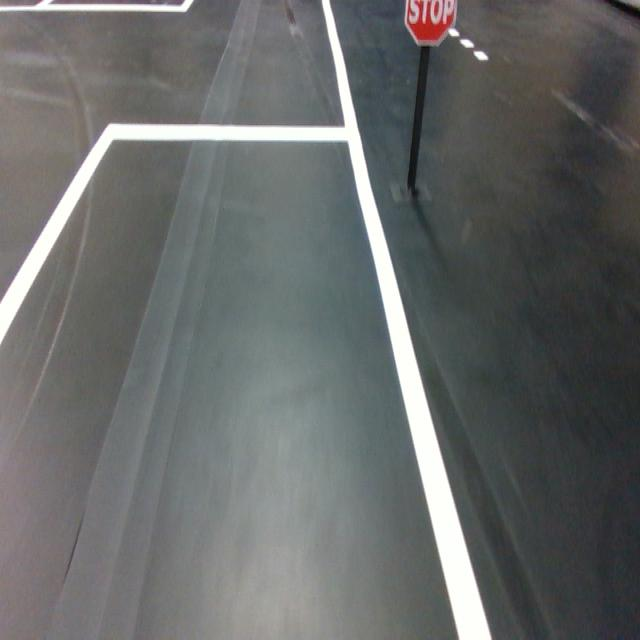stop-sign: (404, 0, 458, 47)
